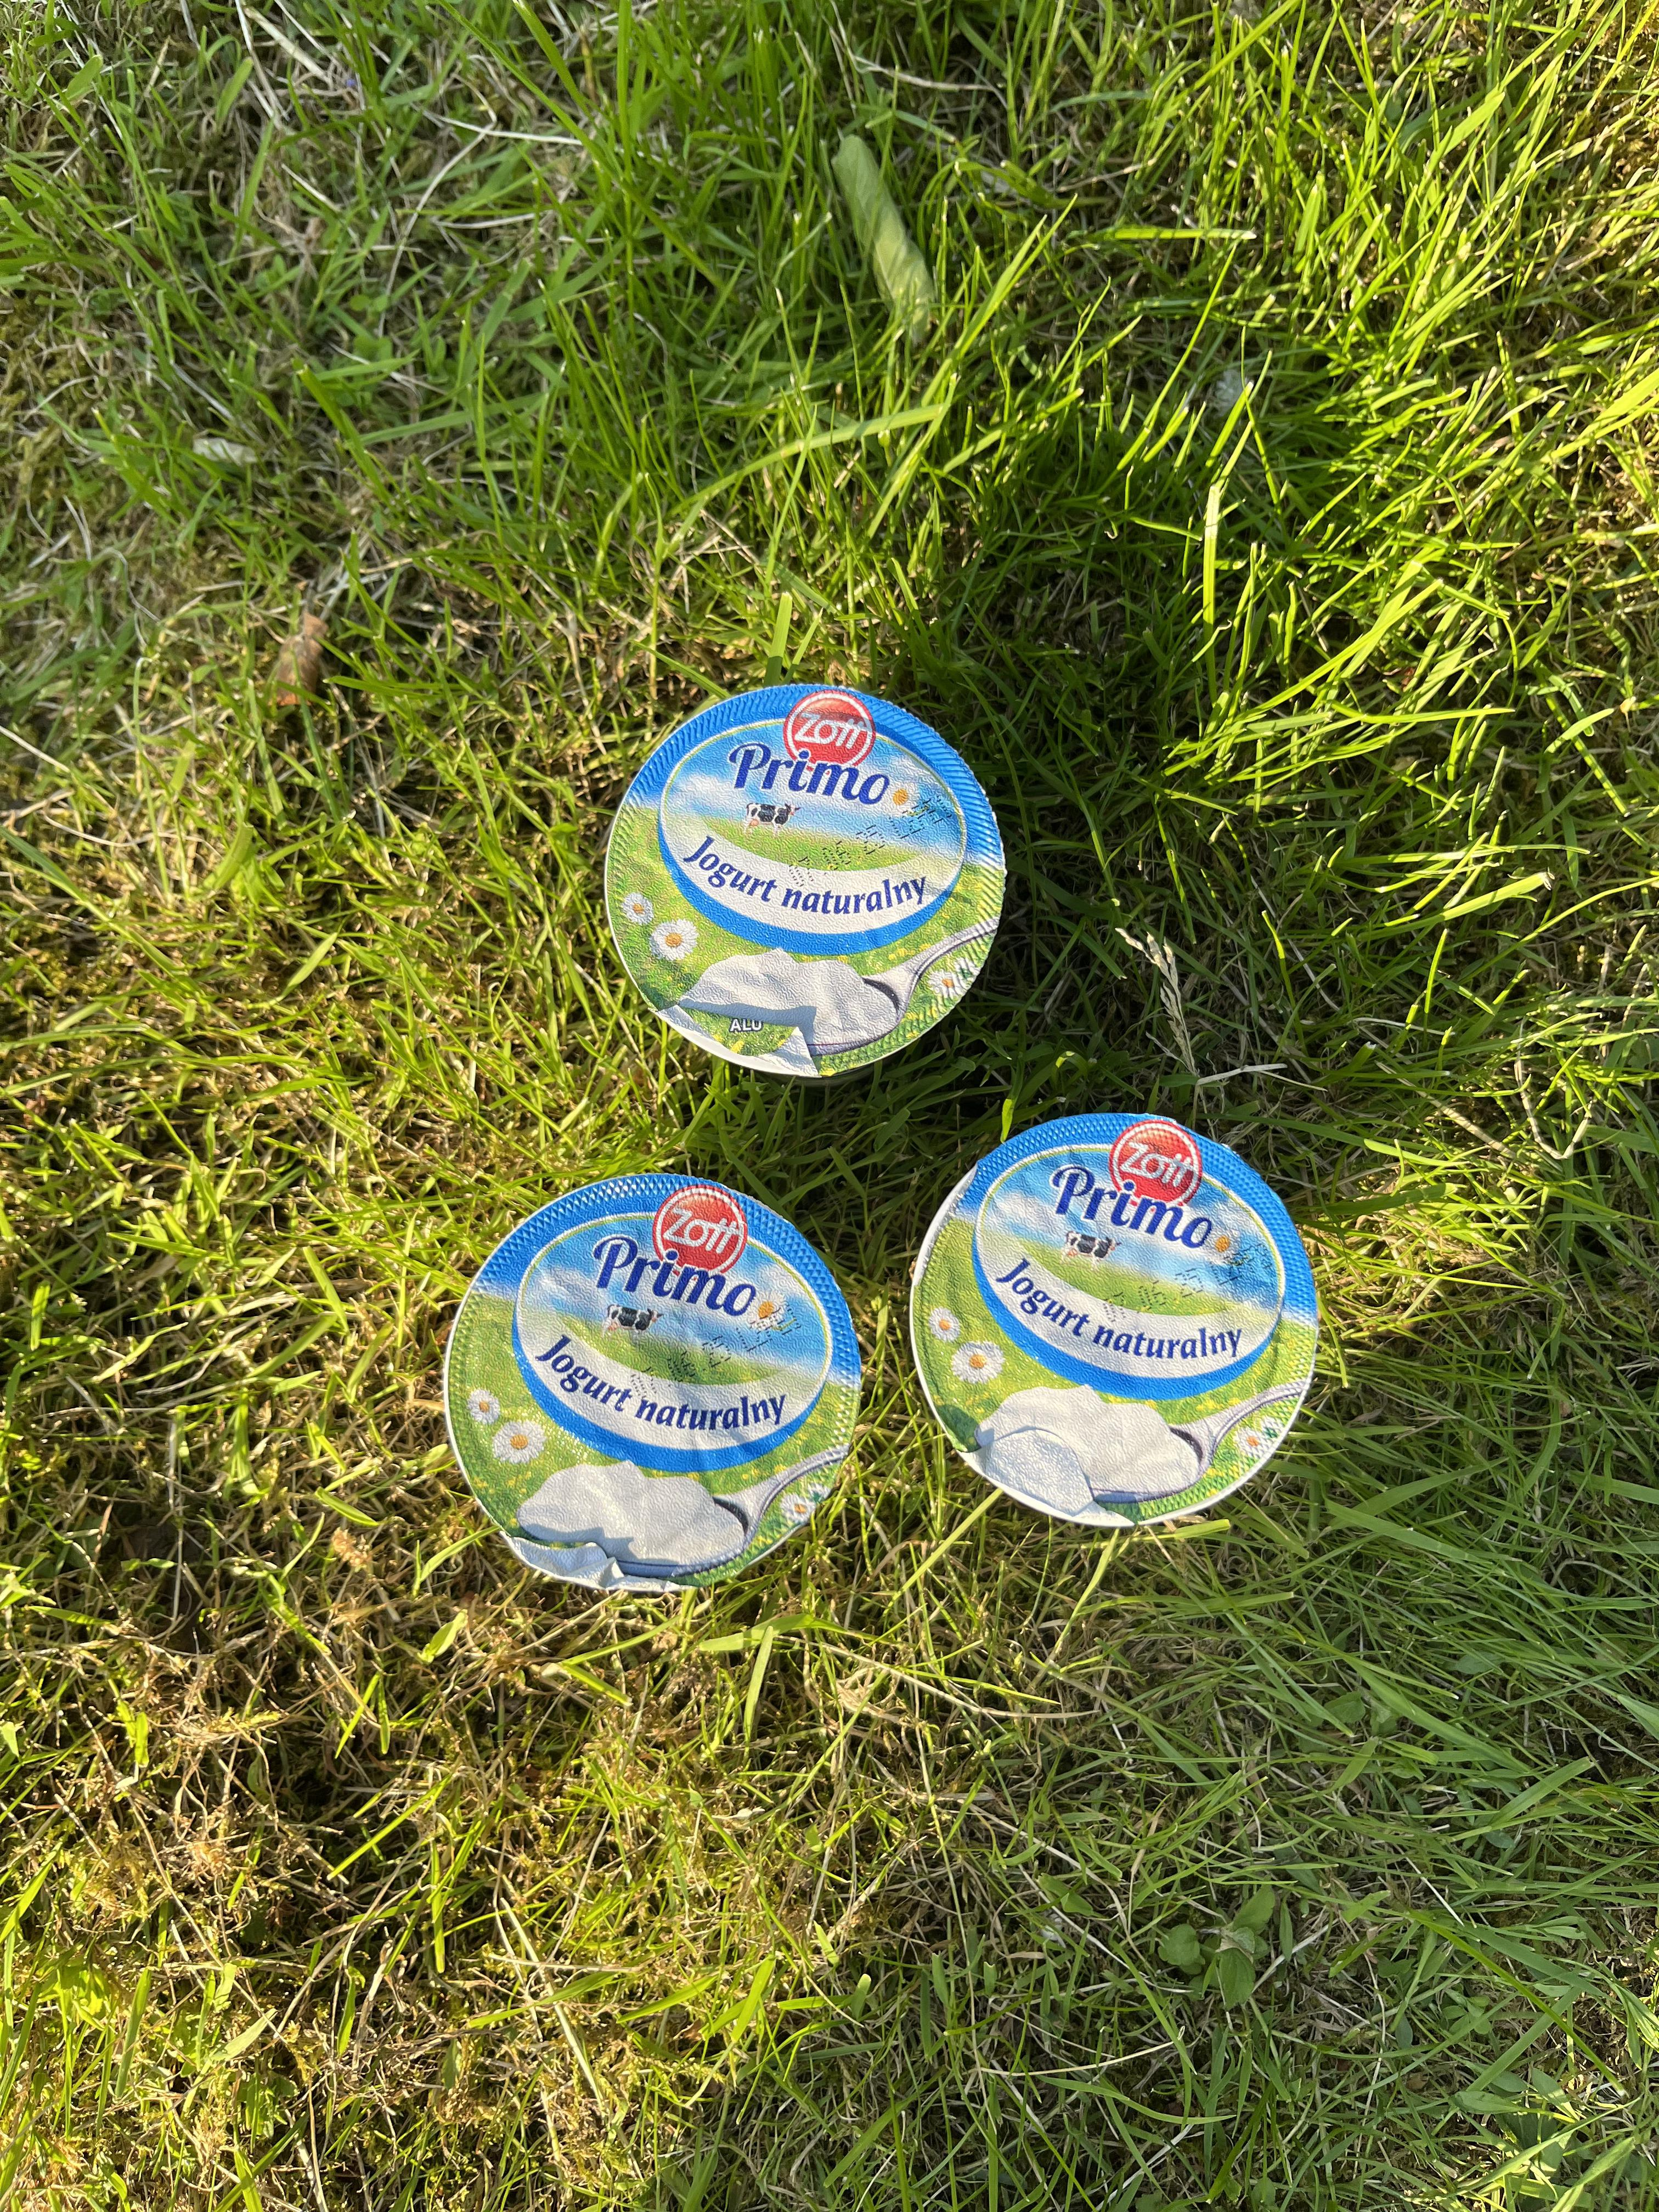Yogurt: (894, 1109, 1314, 1533), (437, 1177, 863, 1585), (601, 683, 1006, 1082)
